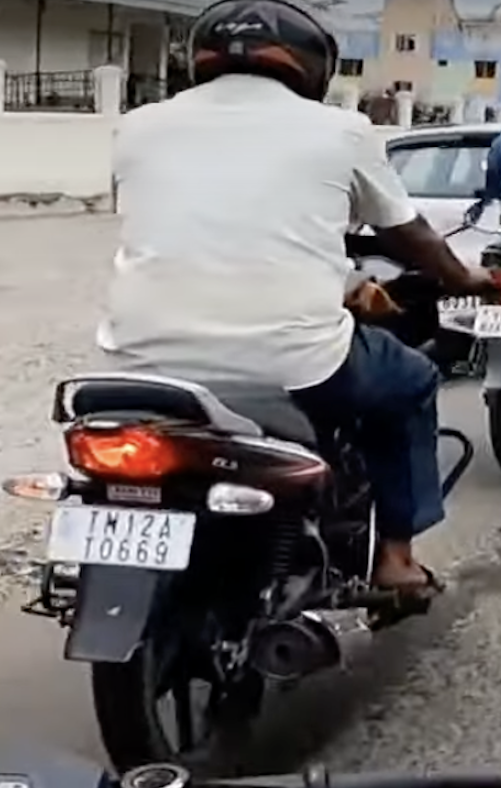motor: (51, 221, 476, 764)
number: (47, 503, 189, 570)
with helmet: (185, 1, 334, 103)
